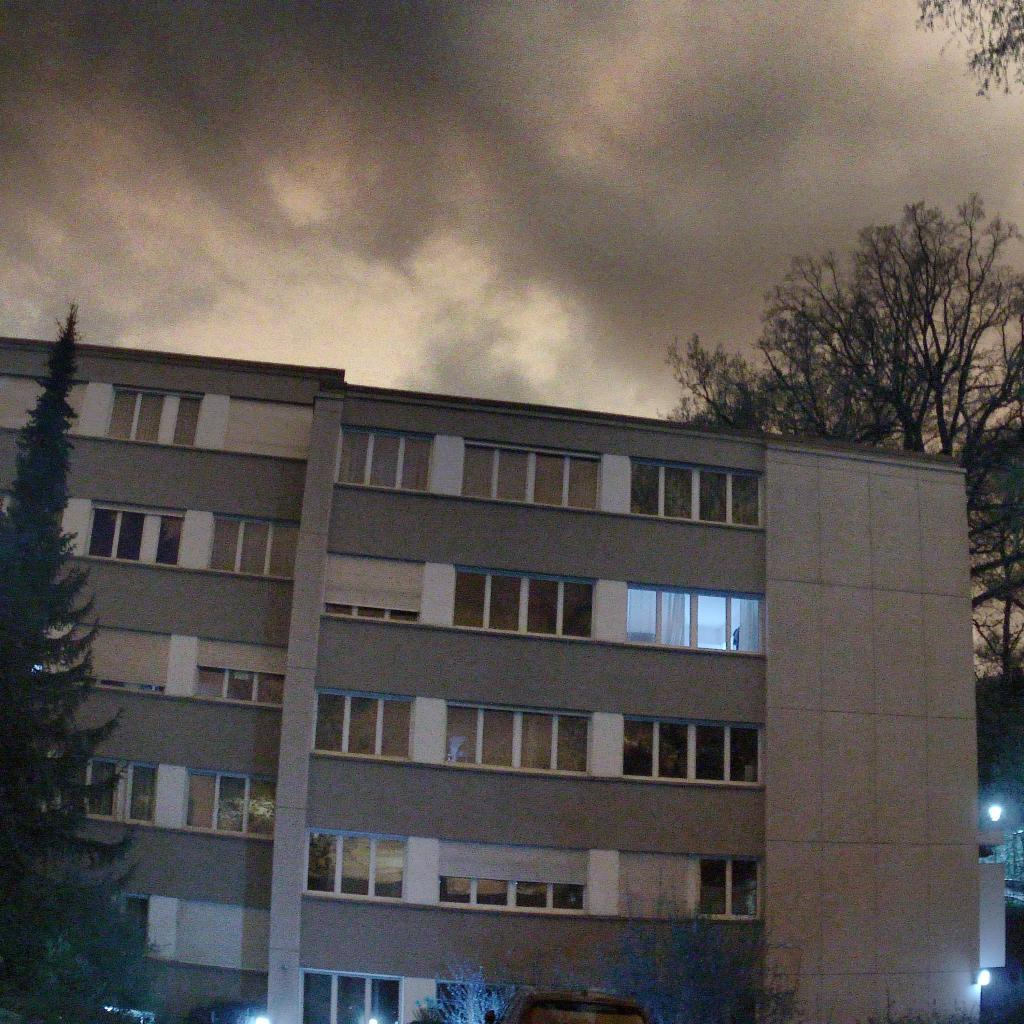car: (493, 986, 659, 1024)
facade: (0, 335, 1024, 1024)
vegetation: (662, 190, 1024, 806), (0, 295, 192, 1024), (407, 868, 1024, 1024), (909, 0, 1024, 104), (982, 895, 1023, 1005)
window: (438, 840, 588, 913), (444, 701, 590, 773), (453, 566, 595, 639), (462, 440, 602, 510), (626, 583, 763, 654), (618, 852, 761, 920), (623, 715, 761, 784), (630, 459, 763, 527), (40, 623, 171, 692), (302, 827, 406, 900), (312, 688, 414, 760), (174, 899, 270, 971), (326, 554, 424, 622), (337, 427, 433, 492), (185, 769, 277, 835), (195, 639, 288, 704), (88, 506, 184, 566), (210, 514, 300, 578), (107, 387, 203, 446), (223, 397, 314, 458), (302, 971, 401, 1024), (0, 374, 86, 435), (84, 758, 157, 823), (436, 980, 510, 1024), (123, 894, 146, 929)
